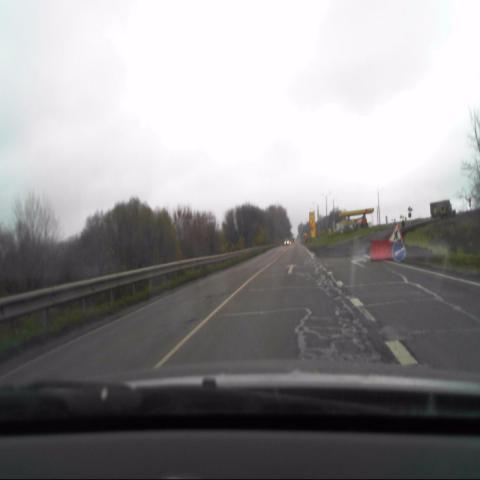4_2_2: (392, 242, 407, 264)
